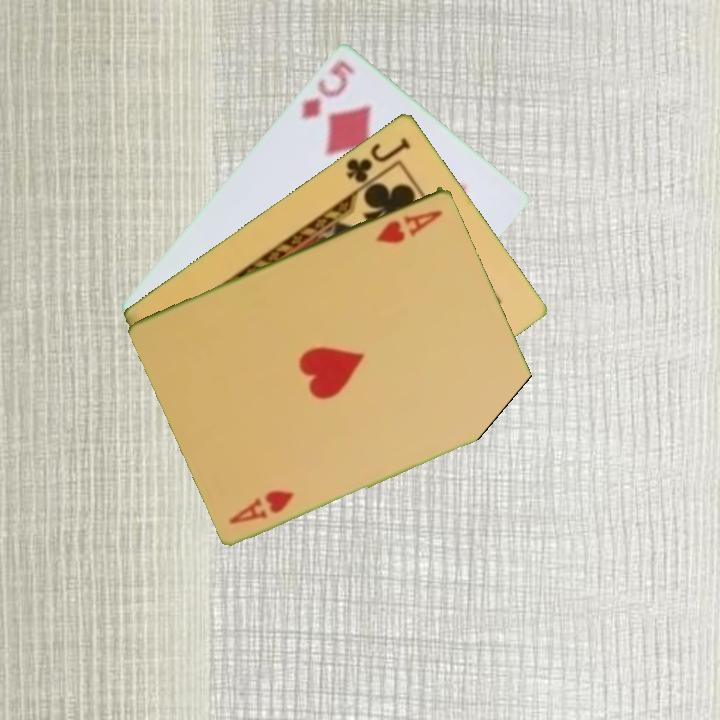5d: (297, 56, 358, 122)
Ah: (372, 205, 446, 246), (226, 486, 298, 527)
Jc: (342, 133, 414, 186)
